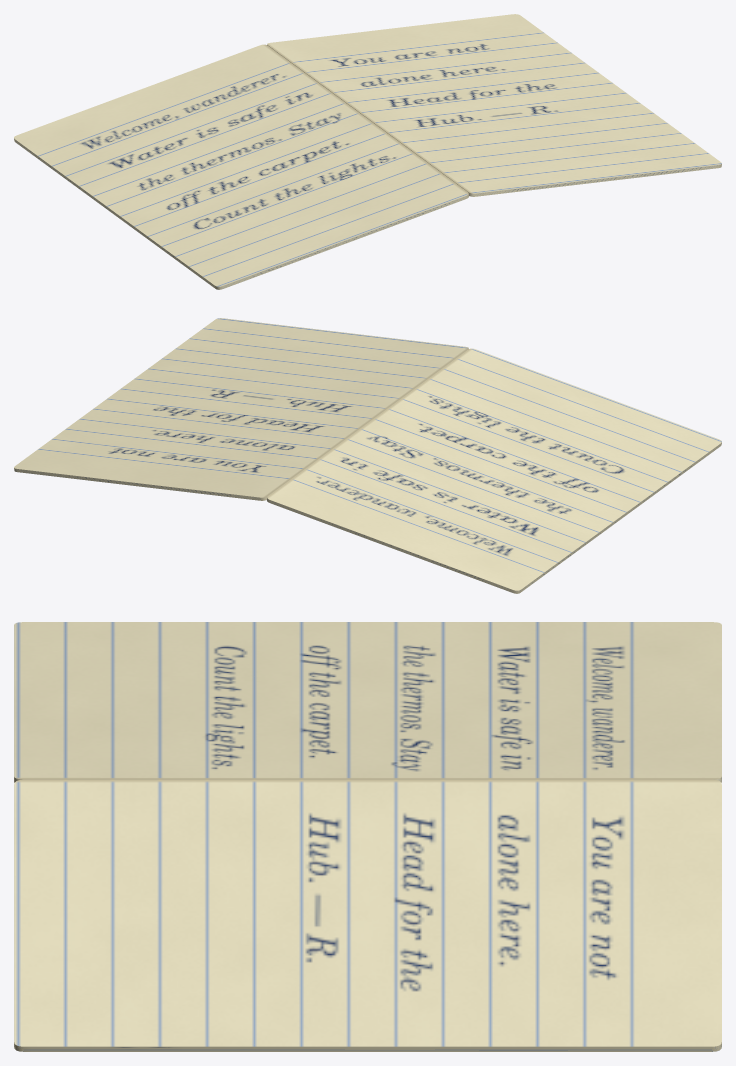
File: welcomenote.obj
3 renders of one model, top to bottom at view 1: azimuth 30°, elevation 25°; view 2: azimuth 150°, elevation 25°; view 3: azimuth 270°, elevation 25°, orthographic. The views are drawn at different scales.
Parts seen in each view (by area): view 1: welcomenote_0_surface; view 2: welcomenote_0_surface; view 3: welcomenote_0_surface.
Part boxes in pixels (<box>): welcomenote_0_surface: <box>14,14,721,289</box>; welcomenote_0_surface: <box>14,318,721,593</box>; welcomenote_0_surface: <box>14,622,721,1051</box>.
Size of the model in its own units: 0.1987 by 0.0132 by 0.14.
Materials: 1 (1 with a texture image).
